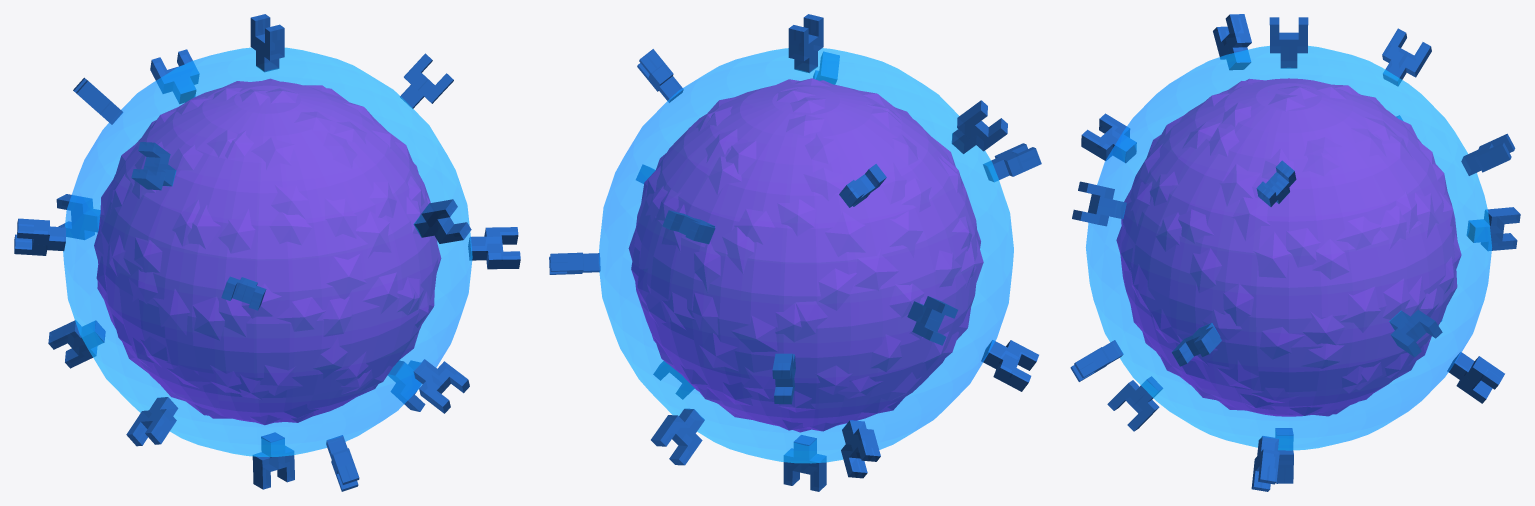
The model's file is TCell2.fbx.
The picture shows the model from 3 angles, left to right: view 1: azimuth 30°, elevation 25°; view 2: azimuth 150°, elevation 25°; view 3: azimuth 270°, elevation 25°; orthographic projection. The views are drawn at different scales.
Visible parts, largest first — view 1: T-Cell-Shield, T-Cell, T-Cell-Claw; view 2: T-Cell-Shield, T-Cell, T-Cell-Claw; view 3: T-Cell-Shield, T-Cell, T-Cell-Claw.
Boxes of the visible parts, x1=… form: T-Cell-Shield: x1=63, y1=47, x2=472, y2=456; T-Cell: x1=94, y1=78, x2=441, y2=424; T-Cell-Claw: x1=14, y1=14, x2=520, y2=491; T-Cell-Shield: x1=599, y1=48, x2=1013, y2=463; T-Cell: x1=628, y1=78, x2=983, y2=432; T-Cell-Claw: x1=549, y1=14, x2=1041, y2=491; T-Cell-Shield: x1=1086, y1=46, x2=1491, y2=450; T-Cell: x1=1116, y1=78, x2=1461, y2=416; T-Cell-Claw: x1=1070, y1=14, x2=1520, y2=491.
Bounding box in the file's own units: 275 × 296 × 266.
